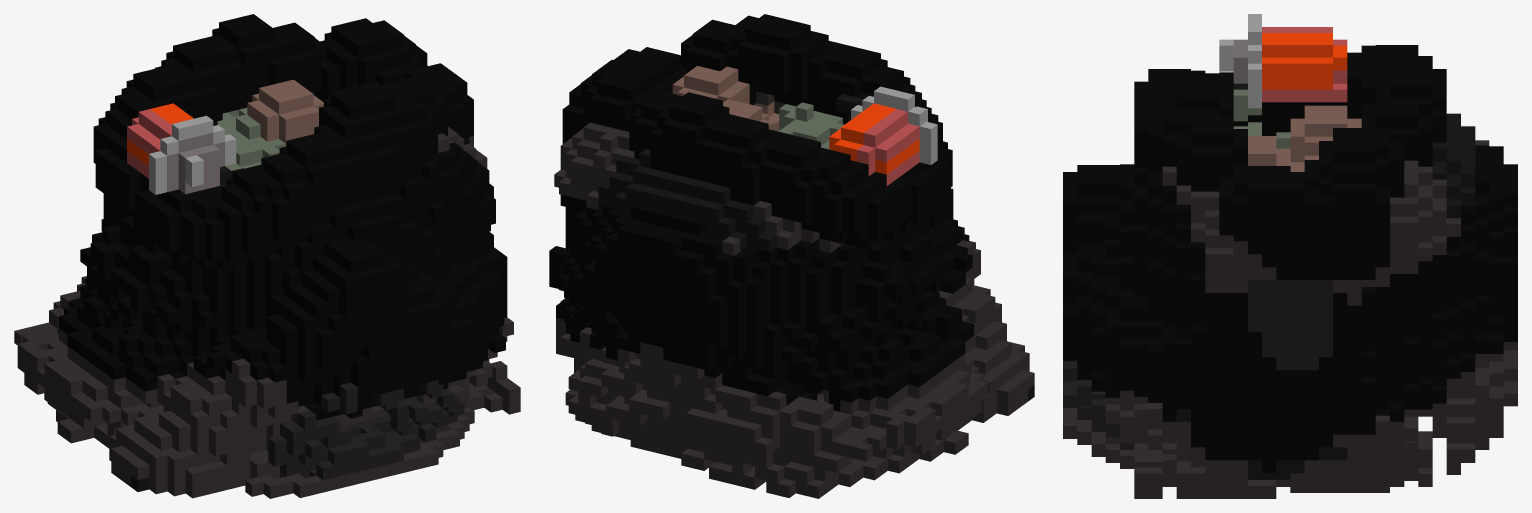
Rendered from GARBAGE.fbx.
The picture shows the model from 3 angles, left to right: view 1: azimuth 30°, elevation 25°; view 2: azimuth 150°, elevation 25°; view 3: azimuth 270°, elevation 25°; orthographic projection. The views are drawn at different scales.
Parts seen in each view (by area): view 1: Layer.048; view 2: Layer.048; view 3: Layer.048.
Part boxes in pixels (x1,y1,x2,y2): Layer.048: (14,14,520,498); Layer.048: (549,14,1034,498); Layer.048: (1063,14,1517,498).
Size of the model in its own units: 3200 by 2700 by 3200.
